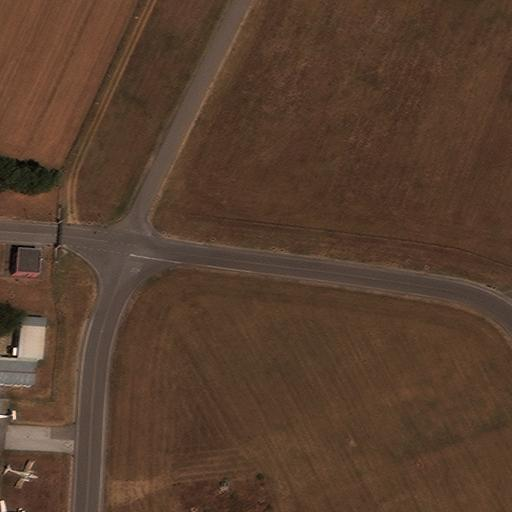Small Civil Transport: (4, 461, 38, 489), (0, 407, 17, 424), (0, 500, 26, 511)
